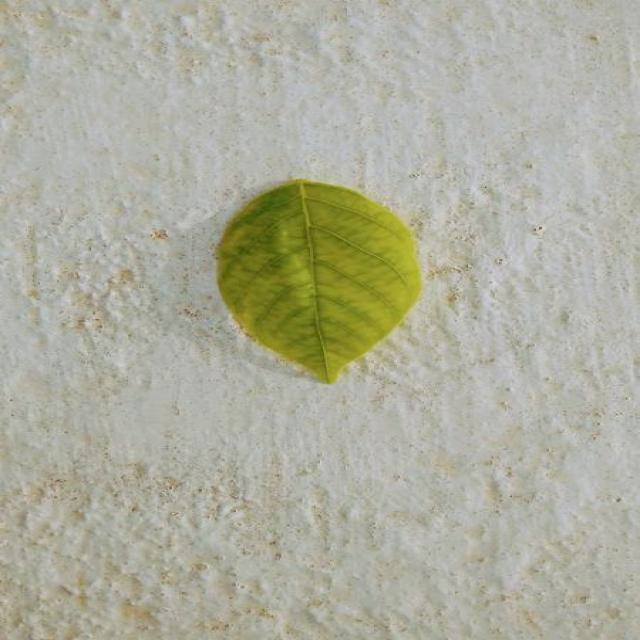leaf: (214, 177, 423, 384)
